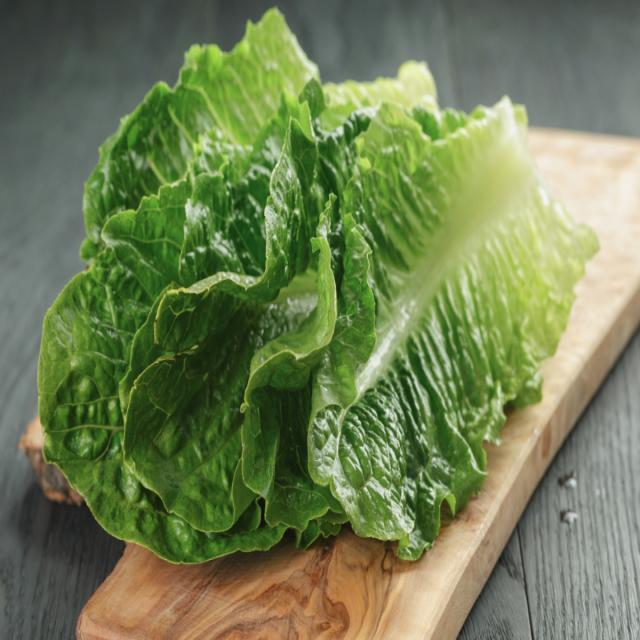lettuce: (32, 59, 483, 560)
